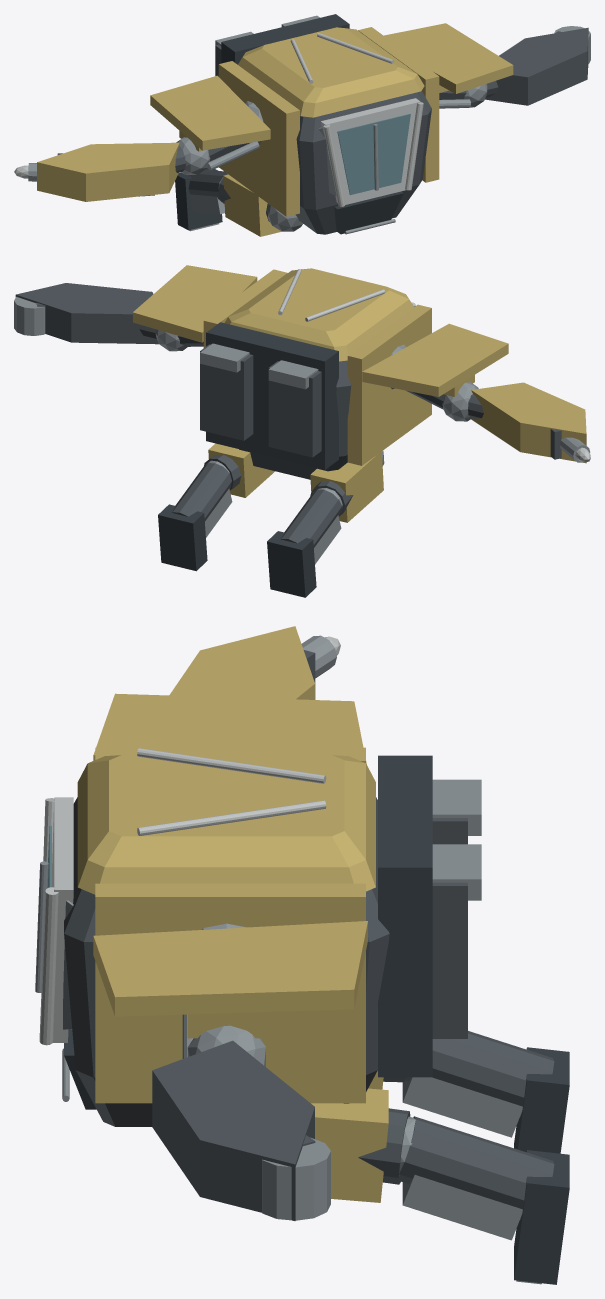
The model's file is imp_yellow_flight.glb.
3 views of the same model, one above another, from view 1: azimuth 30°, elevation 25°; view 2: azimuth 150°, elevation 25°; view 3: azimuth 270°, elevation 25° (orthographic). The views are drawn at different scales.
Visible parts, largest first — view 1: roof_armor, wing_guard_left, side_armor_-1, shoulder_wing_left, wing_guard_right, main_chassis, shoulder_wing_right, cockpit_glass, cockpit_surround, side_armor_1, rear_engine_block, thigh_armor_left (+12 smaller); view 2: roof_armor, rear_engine_block, side_armor_-1, shoulder_wing_left, wing_guard_right, wing_guard_left, shoulder_wing_right, rear_engine_casing_1, rear_engine_casing_-1, foot_right, foot_left, thigh_armor_left (+12 smaller); view 3: roof_armor, side_armor_1, shoulder_wing_right, wing_guard_right, rear_engine_block, shoulder_wing_left, main_chassis, shin_right, wing_guard_left, thigh_armor_right, rear_engine_casing_1, shin_left (+18 smaller).
Part boxes in pixels (<box>): roof_armor: <box>238,27,424,117</box>; wing_guard_left: <box>37,142,179,201</box>; side_armor_-1: <box>218,61,299,216</box>; shoulder_wing_left: <box>150,75,270,150</box>; wing_guard_right: <box>485,27,588,105</box>; main_chassis: <box>295,91,431,234</box>; shoulder_wing_right: <box>384,23,513,93</box>; cockpit_glass: <box>337,114,410,194</box>; cockpit_surround: <box>320,98,420,204</box>; side_armor_1: <box>358,27,439,182</box>; rear_engine_block: <box>221,14,349,64</box>; thigh_armor_left: <box>223,174,281,236</box>; roof_armor: <box>224,268,413,361</box>; rear_engine_block: <box>206,322,338,469</box>; side_armor_-1: <box>347,304,431,465</box>; shoulder_wing_left: <box>362,323,508,396</box>; wing_guard_right: <box>15,283,158,344</box>; wing_guard_left: <box>471,382,586,463</box>; shoulder_wing_right: <box>133,265,257,342</box>; rear_engine_casing_1: <box>200,344,253,440</box>; rear_engine_casing_-1: <box>268,361,321,457</box>; foot_right: <box>158,504,207,571</box>; foot_left: <box>267,531,316,597</box>; thigh_armor_left: <box>310,451,383,522</box>; roof_armor: <box>77,755,375,894</box>; side_armor_1: <box>95,883,365,1103</box>; shoulder_wing_right: <box>93,921,367,1016</box>; wing_guard_right: <box>152,1040,314,1220</box>; rear_engine_block: <box>378,755,432,1077</box>; shoulder_wing_left: <box>93,693,366,764</box>; main_chassis: <box>64,797,389,1126</box>; shin_right: <box>399,1116,554,1219</box>; wing_guard_left: <box>169,626,314,699</box>; thigh_armor_right: <box>311,1088,388,1202</box>; rear_engine_casing_1: <box>432,882,467,1038</box>; shin_left: <box>405,1031,554,1117</box>.
Size of the model in its own units: 6.64 by 2.42 by 2.73.
